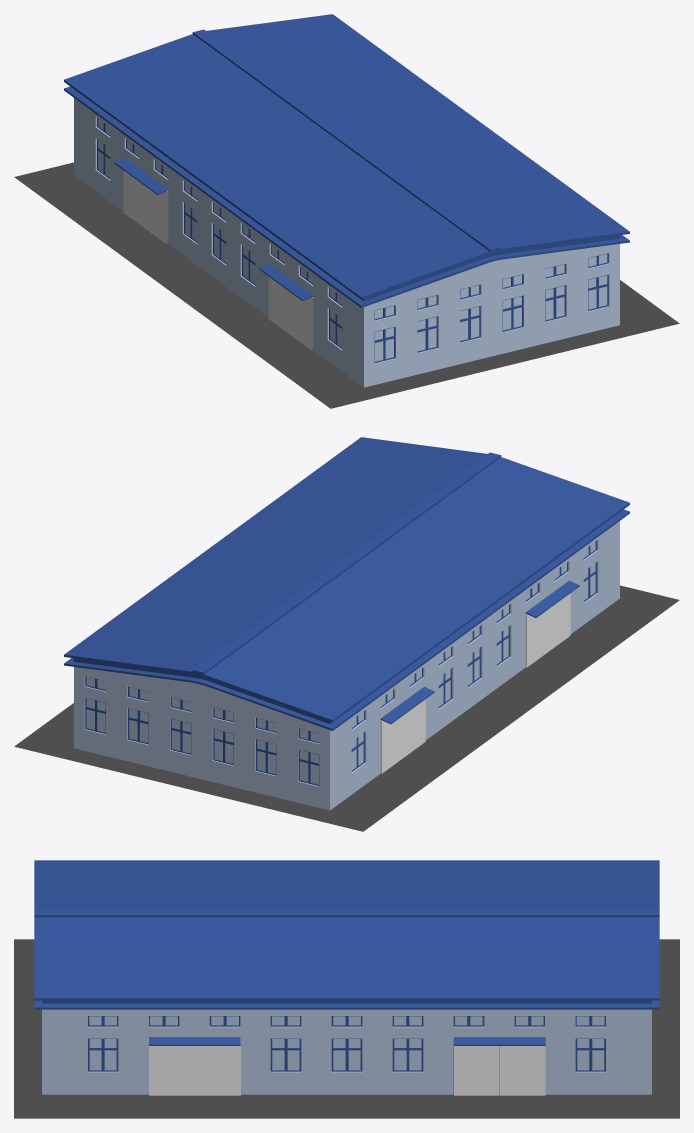
The picture shows the model from 3 angles, top to bottom: view 1: azimuth 30°, elevation 25°; view 2: azimuth 150°, elevation 25°; view 3: azimuth 270°, elevation 25°; orthographic projection. The views are drawn at different scales.
Parts seen in each view (by area): view 1: 平面; view 2: 平面; view 3: 平面.
Boxes of the visible parts, x1,y1,x2,y2 form: 平面: (14,14,679,408); 平面: (14,437,679,831); 平面: (14,860,679,1118).
Bounding box in the file's own units: 235 × 71.4 × 369.
